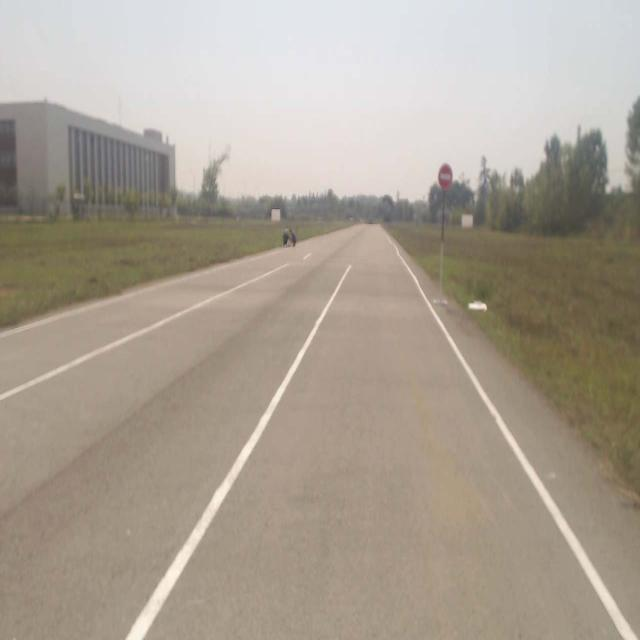girisyok: (439, 165, 452, 188)
